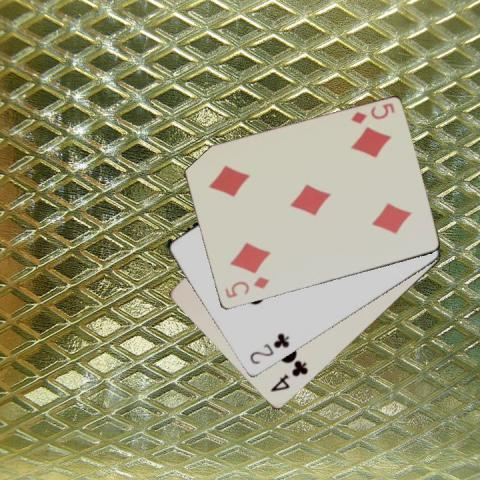2c: (247, 330, 291, 367)
4c: (267, 358, 310, 394)
5d: (221, 274, 271, 300), (347, 100, 396, 125)
